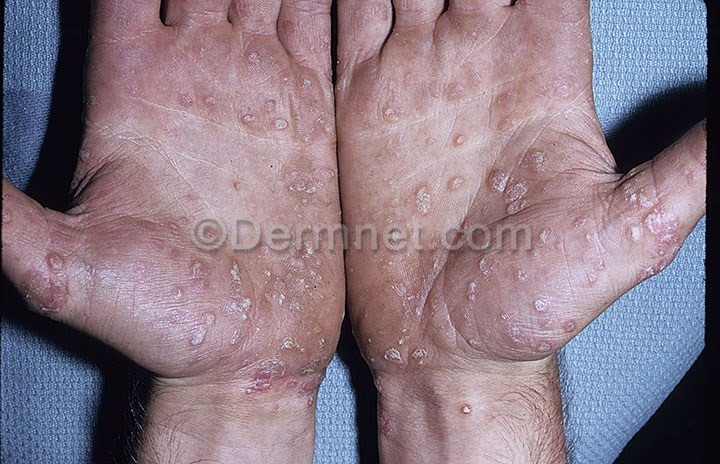Psoriasis: (134, 215, 339, 412), (357, 240, 582, 377), (404, 114, 551, 220), (186, 39, 325, 146), (589, 169, 689, 284), (26, 241, 83, 319), (267, 145, 333, 210), (2, 182, 34, 247), (79, 127, 94, 199), (454, 399, 488, 421)
